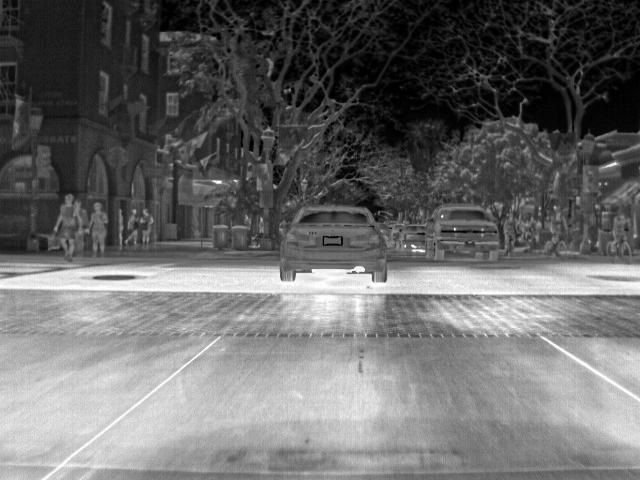car: (278, 203, 389, 286), (426, 206, 501, 264), (398, 223, 429, 255), (390, 222, 405, 243)
person: (54, 196, 75, 258), (89, 204, 110, 260), (609, 213, 630, 253), (502, 212, 518, 258), (136, 209, 154, 247), (124, 208, 141, 245), (73, 198, 87, 230)
